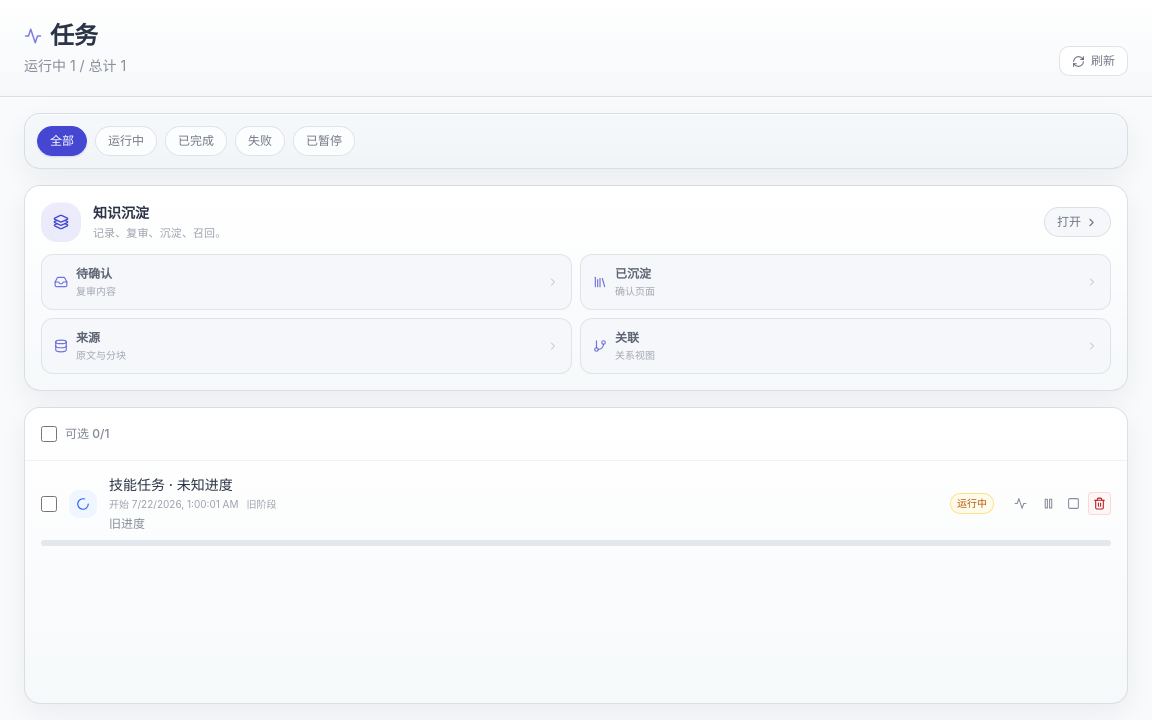
Test: Jobs › keeps runtime progress explicitly unknown when the snapshot has no real progress
Click the button named "查看任务详情 技能任务 · 未知进度": (1020, 504) [1006,490,1034,518]
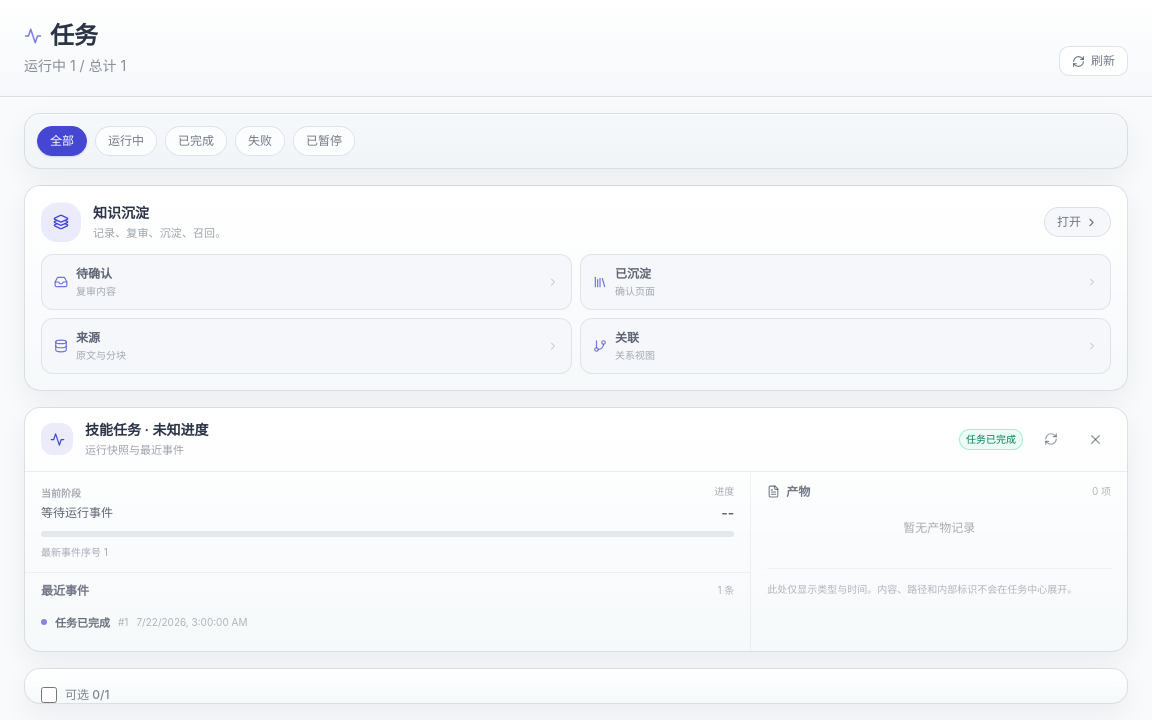
Check: the text "--" is shown, box [721,504,734,520]
Check: the text "旧阶段" is gone
Check: the text "旧进度" is gone
